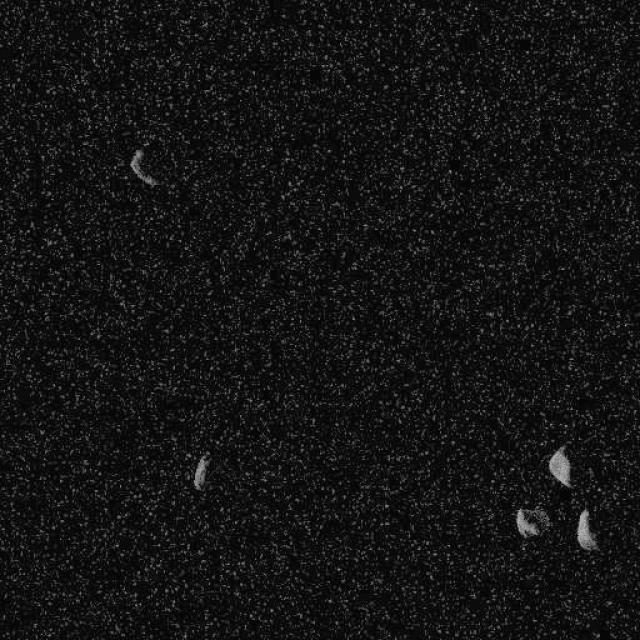D2: (129, 145, 159, 187), (514, 504, 548, 538), (546, 444, 572, 488), (575, 506, 599, 552), (191, 451, 211, 491)
